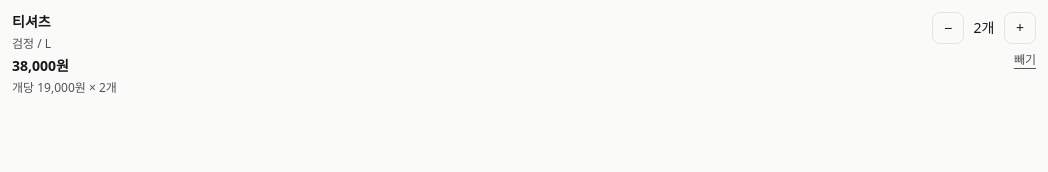
Scenario: 장바구니 줄 › 수량을 바꾸면 › 결과를 소리로도 전한다
Click the button named "수량 늘리기" at (1020, 28), box [1004, 12, 1036, 44]
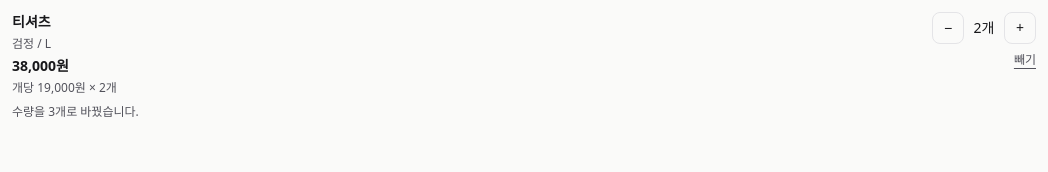
Result: the message shows "수량을 3개로 바꿨습니다" at [12, 103, 139, 120]
